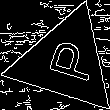P_W: (34, 36, 96, 88)
